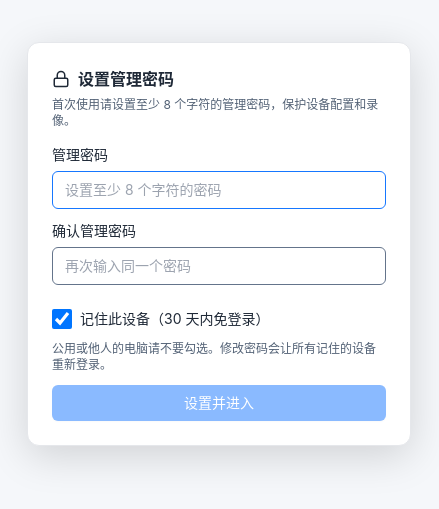
shows short-password feedback without a page-level toaster
The width and height of the screenshot is (439, 509).
Type "short" into the password field labelled "管理密码" at x=219, y=190, box [52,171,386,209]
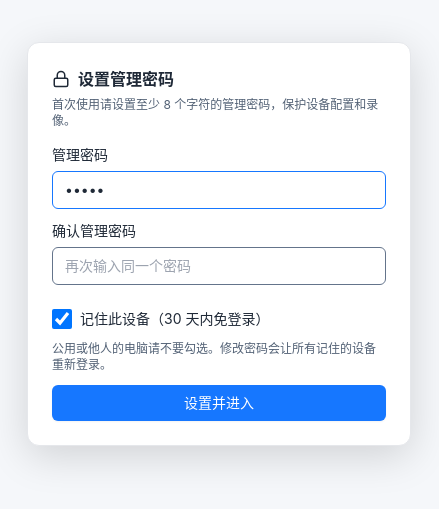
Click the button "设置并进入" at x=219, y=403, box [52,385,386,421]
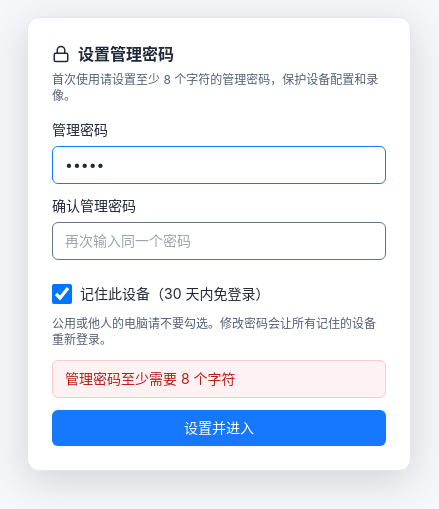
expect the message reads "管理密码至少需要 8 个字符": met, box [65,370,236,387]
